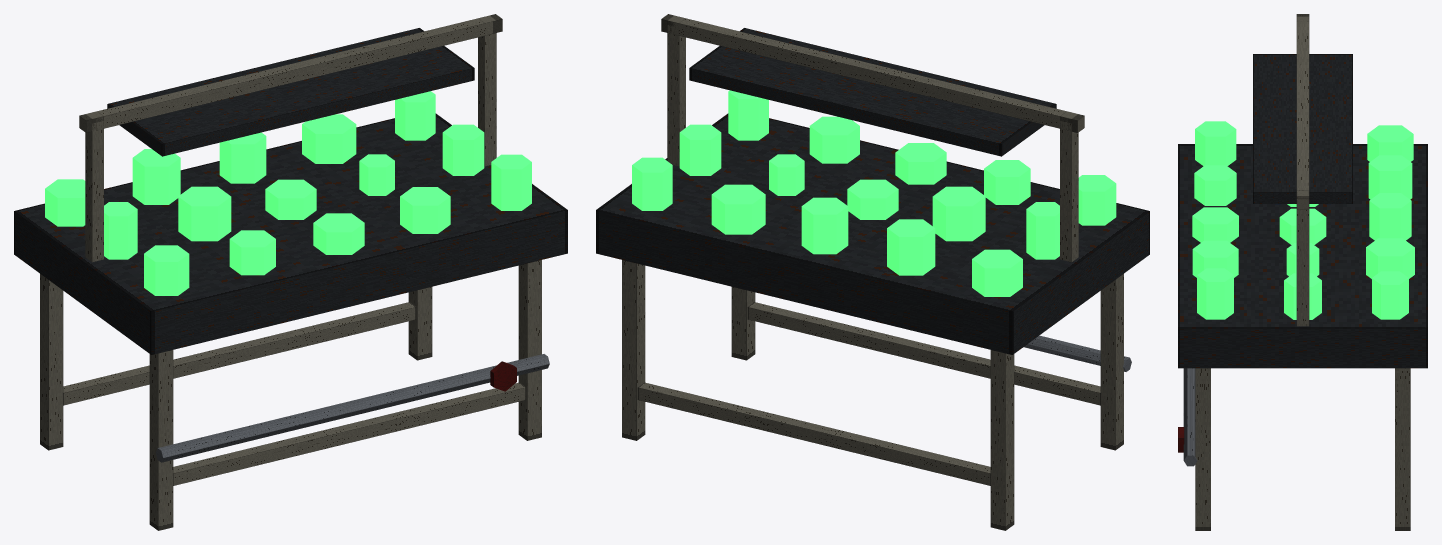
Rendered from hydroponic_tray_bed_habitation_worn.glb.
The picture shows the model from 3 angles, left to right: view 1: azimuth 30°, elevation 25°; view 2: azimuth 150°, elevation 25°; view 3: azimuth 270°, elevation 25°; orthographic projection. The views are drawn at different scales.
Parts seen in each view (by area): view 1: hydroponic_tray_bed_habitation_worn; view 2: hydroponic_tray_bed_habitation_worn; view 3: hydroponic_tray_bed_habitation_worn.
Part boxes in pixels (box(x1,y1,x2,y2)): hydroponic_tray_bed_habitation_worn: box(14, 14, 567, 530); hydroponic_tray_bed_habitation_worn: box(596, 14, 1149, 530); hydroponic_tray_bed_habitation_worn: box(1178, 14, 1427, 530).
Bounding box in the file's own units: 1.4 × 1.2 × 0.8.
Materials: 6 (6 with a texture image).
